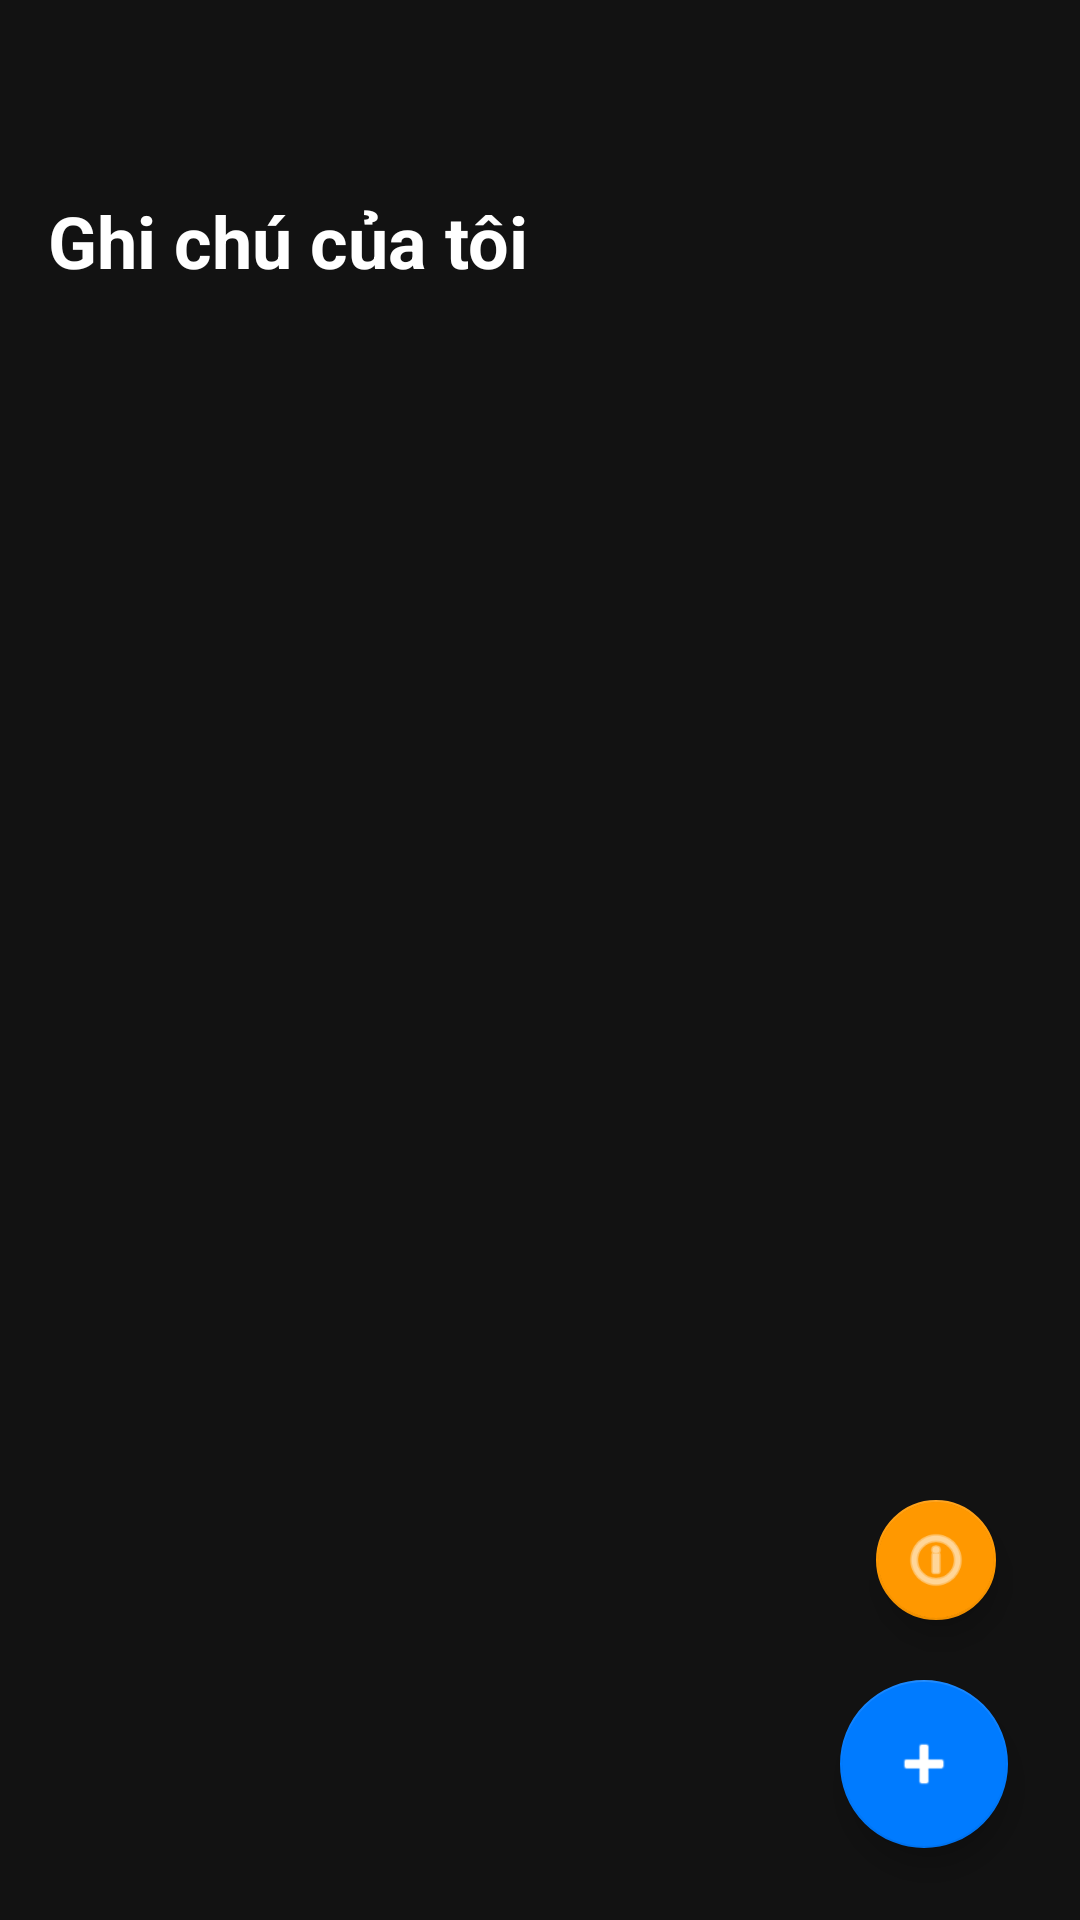

Screen size 1080×1920. Icon name, then its center in pixels as (x,y):
Thêm ghi chú: (924,1764)
Xem AI Logs: (936,1560)
